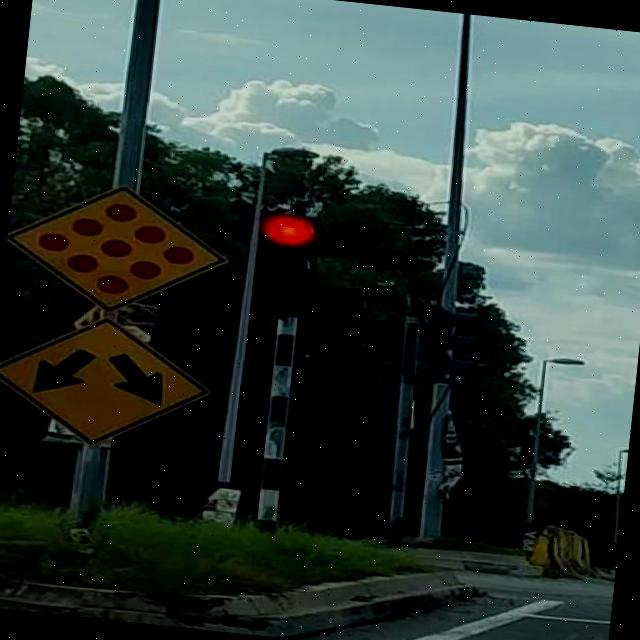red_light: (251, 210, 318, 318)
